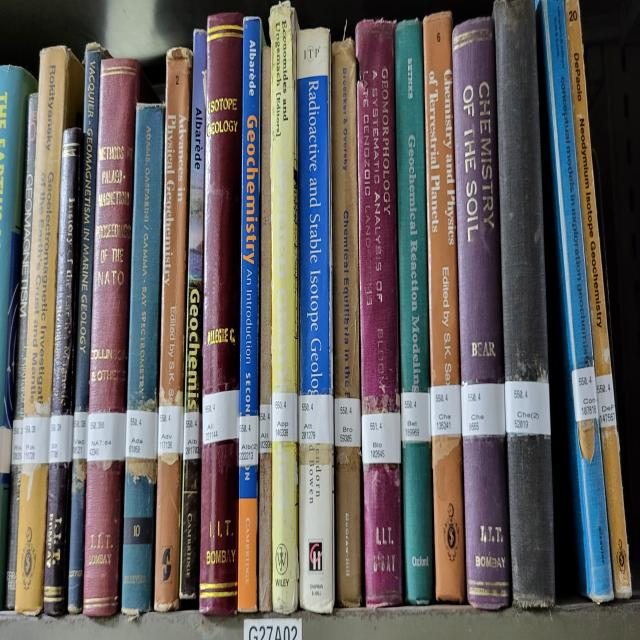Book: (538, 0, 614, 603), (565, 0, 631, 598), (15, 46, 84, 614), (494, 0, 555, 606), (452, 16, 510, 609), (84, 60, 140, 617), (355, 22, 402, 609), (200, 14, 244, 614), (422, 11, 465, 603), (68, 43, 109, 614), (296, 27, 335, 611), (395, 22, 434, 603), (121, 103, 165, 614), (154, 49, 192, 611), (44, 127, 82, 614), (270, 0, 299, 614), (331, 41, 362, 606), (5, 92, 38, 609), (238, 16, 264, 611), (180, 30, 206, 601), (259, 49, 272, 611)
Label: (505, 381, 551, 436), (461, 384, 505, 436), (361, 411, 401, 465), (202, 390, 240, 444), (88, 411, 126, 463), (125, 409, 159, 460), (299, 395, 334, 444), (430, 384, 461, 436), (571, 365, 599, 422), (401, 392, 431, 444), (21, 417, 50, 465), (334, 398, 361, 446), (272, 392, 298, 441), (158, 406, 184, 455), (49, 414, 74, 463), (596, 373, 616, 427), (239, 414, 259, 468), (182, 411, 201, 460), (72, 411, 89, 460), (259, 403, 272, 455), (11, 419, 22, 465)
